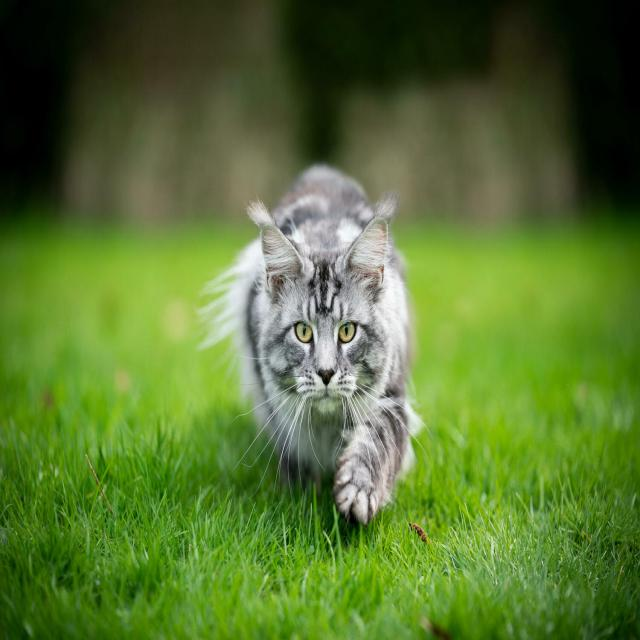cat: (197, 164, 422, 528)
